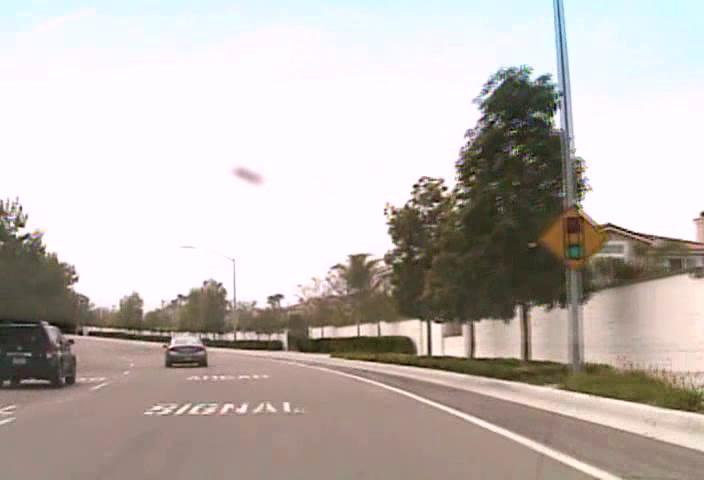signalAhead: (538, 203, 606, 273)
